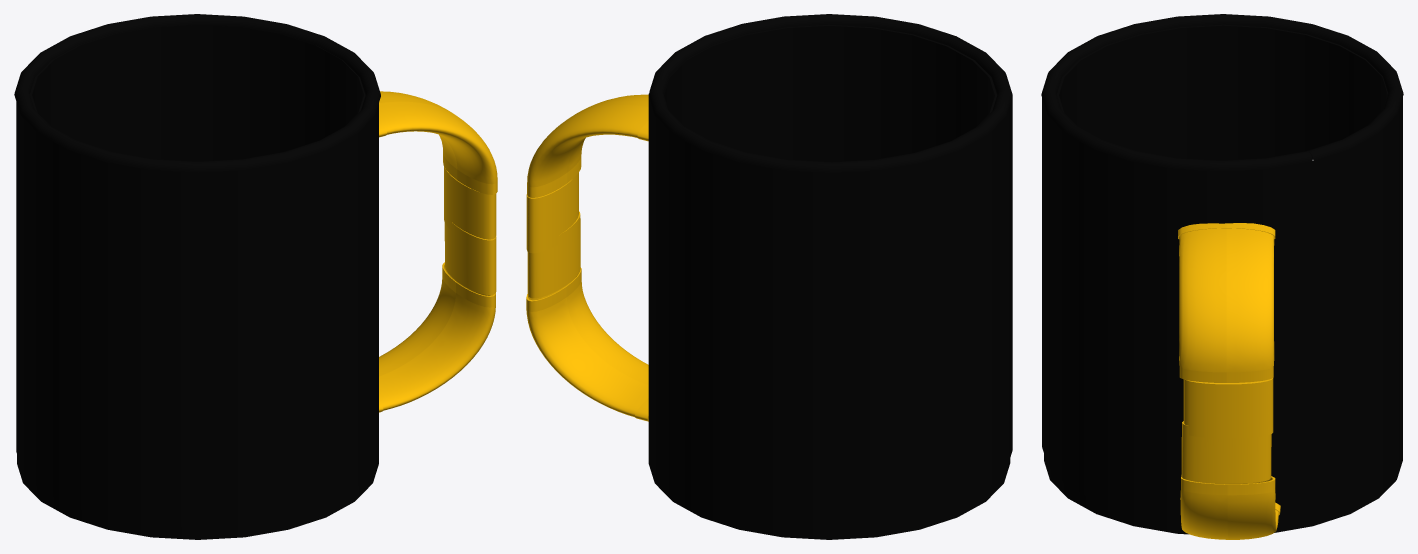
The model's file is mug_09_origin_gt_1.dae.
3 renders of one model, left to right at view 1: azimuth 30°, elevation 25°; view 2: azimuth 150°, elevation 25°; view 3: azimuth 270°, elevation 25°, orthographic.
Visible parts, largest first — view 1: SketchUp, ASTMF758_90_8_X_36R (×4), Handle_section_1 (×2); view 2: SketchUp, ASTMF758_90_8_X_36R (×4), Handle_section_1 (×2); view 3: SketchUp, ASTMF758_90_8_X_36R (×8), Handle_section_1 (×2).
Boxes of the visible parts, x1,y1,x2,y2 form: SketchUp: (14,14,380,539); ASTMF758_90_8_X_36R (×4): (379,91,497,410); Handle_section_1 (×2): (444,167,496,295); SketchUp: (648,14,1012,539); ASTMF758_90_8_X_36R (×4): (526,94,648,417); Handle_section_1 (×2): (526,172,580,298); SketchUp: (1041,14,1403,534); ASTMF758_90_8_X_36R (×8): (1179,228,1278,539); Handle_section_1 (×2): (1181,378,1273,483).
Bounding box in the file's own units: 4.27 × 3.03 × 3.43.
